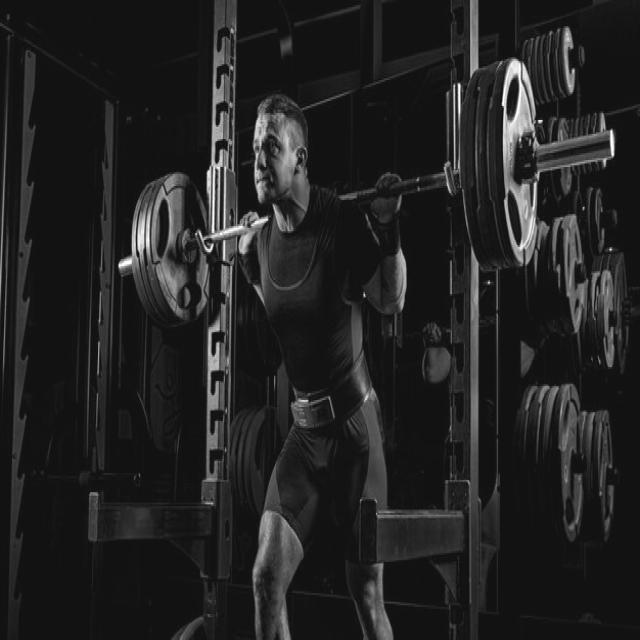barbell_plate_side: (118, 48, 243, 328), (493, 48, 618, 328)
